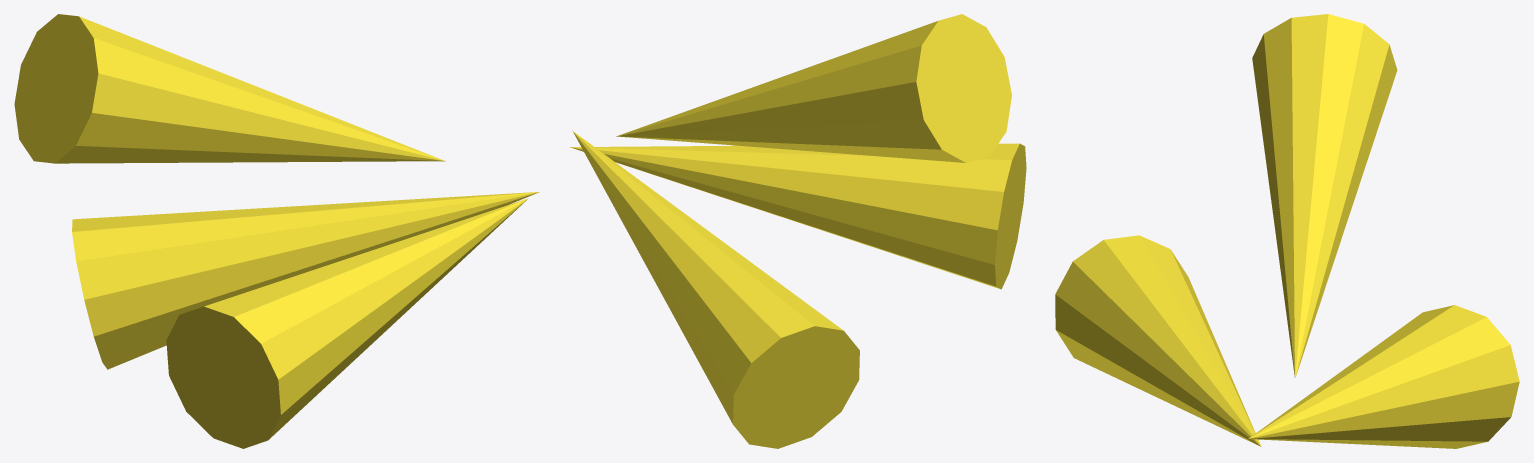
File: Rifle - Muzzle Flash.obj
The picture shows the model from 3 angles, left to right: view 1: azimuth 30°, elevation 25°; view 2: azimuth 150°, elevation 25°; view 3: azimuth 270°, elevation 25°; orthographic projection. The views are drawn at different scales.
Parts seen in each view (by area): view 1: group384242299, group988900758, group39852534; view 2: group384242299, group988900758, group39852534; view 3: group384242299, group39852534, group988900758.
Boxes of the visible parts, x1,y1,x2,y2 form: group384242299: (14, 14, 445, 163); group988900758: (166, 198, 528, 448); group39852534: (72, 192, 539, 369); group384242299: (616, 14, 1011, 162); group988900758: (569, 143, 1026, 289); group39852534: (573, 131, 859, 448); group384242299: (1252, 14, 1397, 378); group39852534: (1248, 305, 1519, 448); group988900758: (1055, 235, 1261, 446).
Size of the model in its own units: 0.0699 by 0.0591 by 0.0637.
